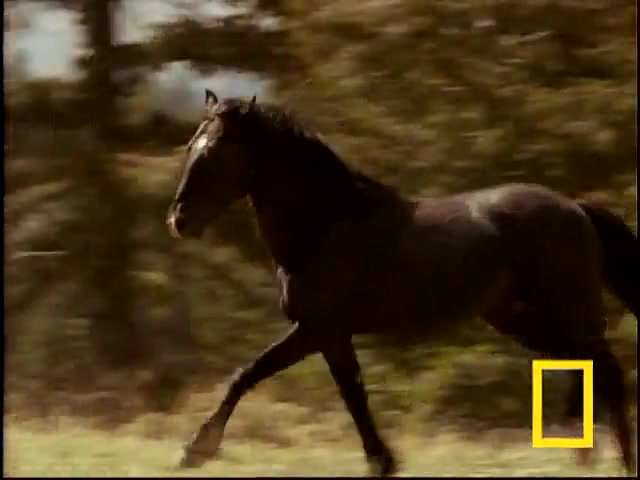horse: (167, 87, 640, 474)
